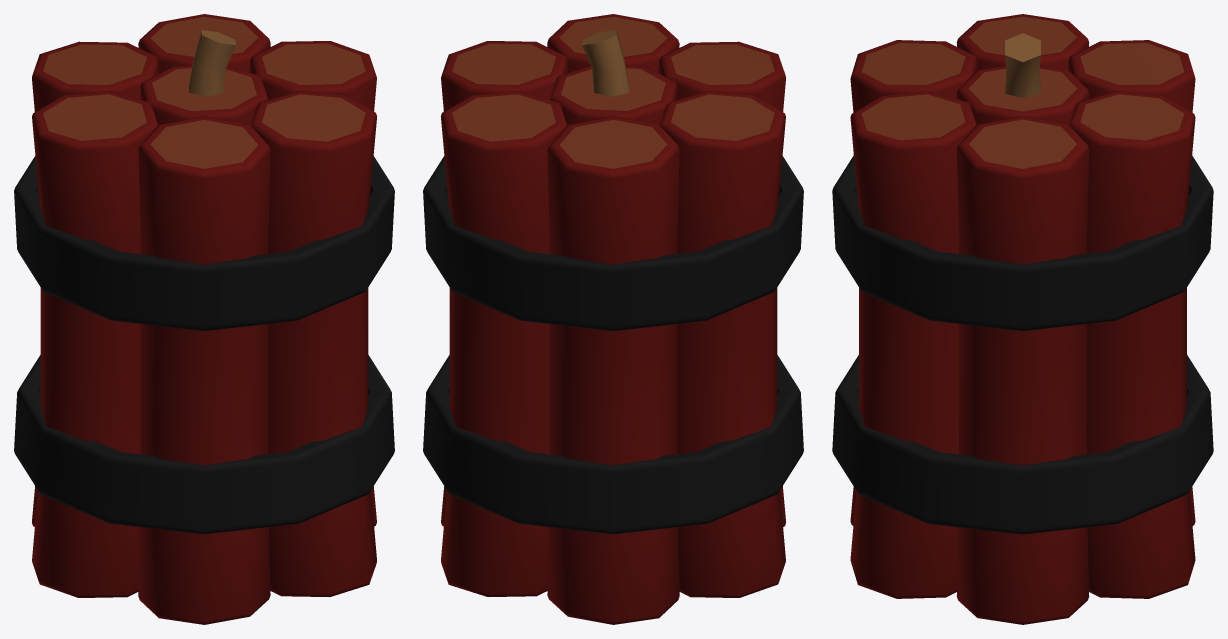
The model's file is Dynamit.fbx.
The picture shows the model from 3 angles, left to right: view 1: azimuth 30°, elevation 25°; view 2: azimuth 150°, elevation 25°; view 3: azimuth 270°, elevation 25°; orthographic projection.
Visible parts, largest first — view 1: Cylinder001, Cylinder002, Cylinder003; view 2: Cylinder001, Cylinder002, Cylinder003; view 3: Cylinder001, Cylinder002, Cylinder003.
Boxes of the visible parts, <box> form: Cylinder001: <box>32,14,376,624</box>; Cylinder002: <box>14,156,394,534</box>; Cylinder003: <box>189,30,235,96</box>; Cylinder001: <box>441,14,785,624</box>; Cylinder002: <box>423,156,803,534</box>; Cylinder003: <box>582,30,628,96</box>; Cylinder001: <box>850,14,1195,624</box>; Cylinder002: <box>832,155,1213,534</box>; Cylinder003: <box>1005,33,1040,97</box>.
Size of the model in its own units: 70.51 by 105 by 70.17.
